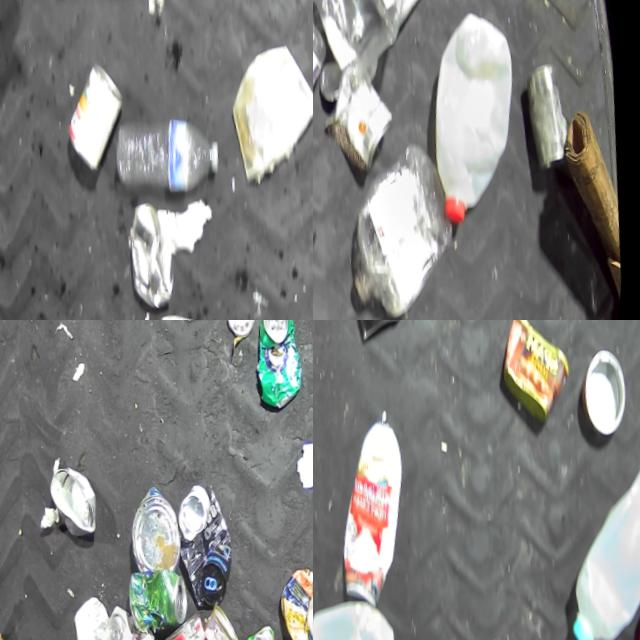can: (330, 404, 424, 609), (318, 56, 403, 175), (172, 479, 246, 608), (61, 60, 134, 180), (521, 58, 575, 170), (127, 481, 190, 573), (577, 342, 636, 437), (249, 320, 310, 408), (131, 563, 198, 634), (49, 458, 106, 536), (278, 562, 313, 640), (158, 608, 242, 640), (104, 599, 168, 640), (204, 601, 249, 640), (318, 58, 346, 101), (224, 621, 286, 640), (223, 320, 259, 337)
milk_jug: (418, 5, 532, 223), (559, 446, 640, 640), (313, 592, 427, 640)
plastic_bottle: (112, 106, 233, 206), (313, 9, 341, 180)
